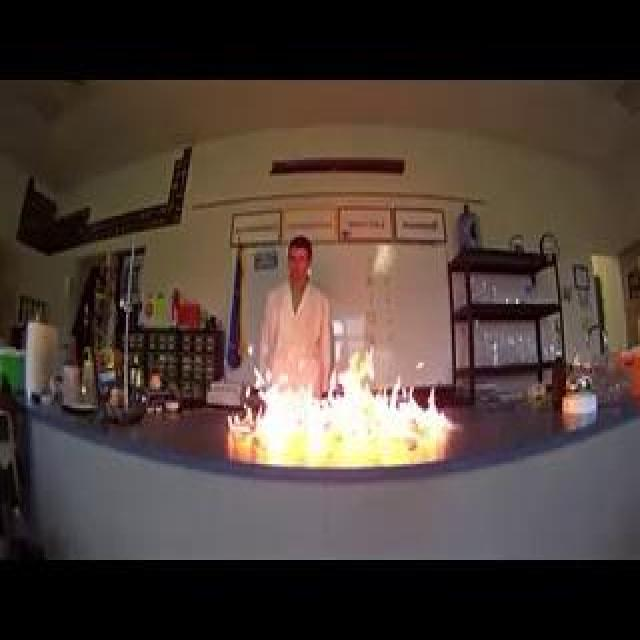Fire: (225, 355, 465, 437)
